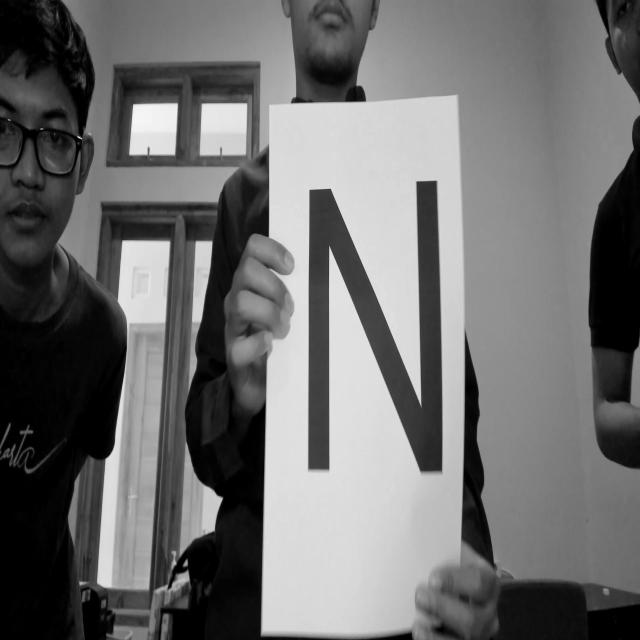n: (289, 146, 450, 493)
